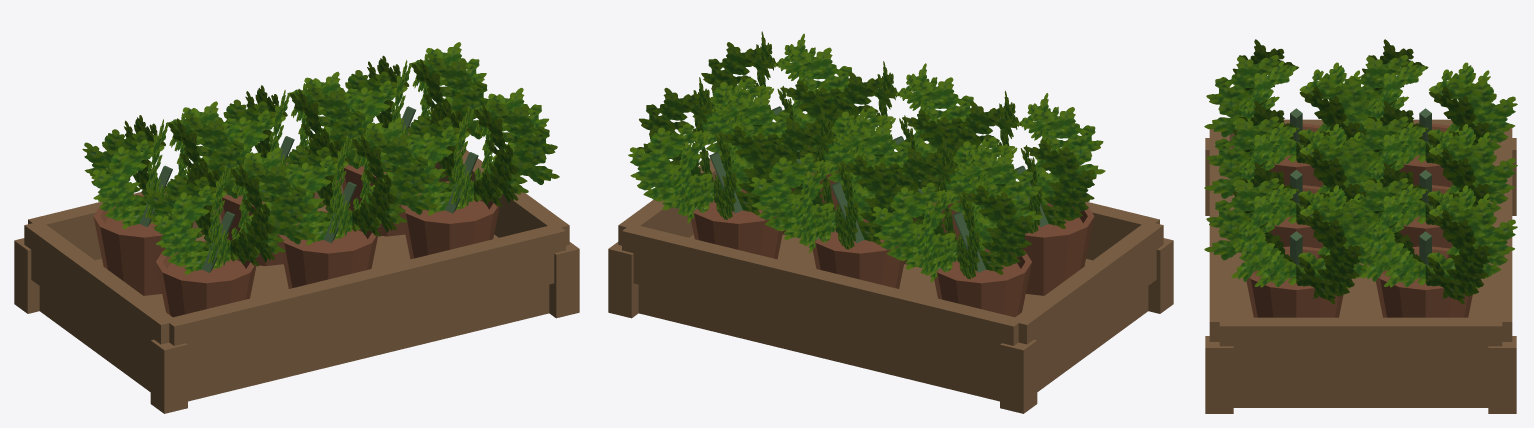
3 renders of one model, left to right at view 1: azimuth 30°, elevation 25°; view 2: azimuth 150°, elevation 25°; view 3: azimuth 270°, elevation 25°, orthographic. The views are drawn at different scales.
Parts seen in each view (by area): view 1: a10; view 2: a10; view 3: a10.
Boxes of the visible parts, left/top/right/bottom form: a10: left=14, top=42, right=579, bottom=413; a10: left=608, top=31, right=1173, bottom=413; a10: left=1204, top=39, right=1517, bottom=413.
Bounding box in the file's own units: 0.6395 × 0.2814 × 0.3925.
Materials: 2 (1 with a texture image).
